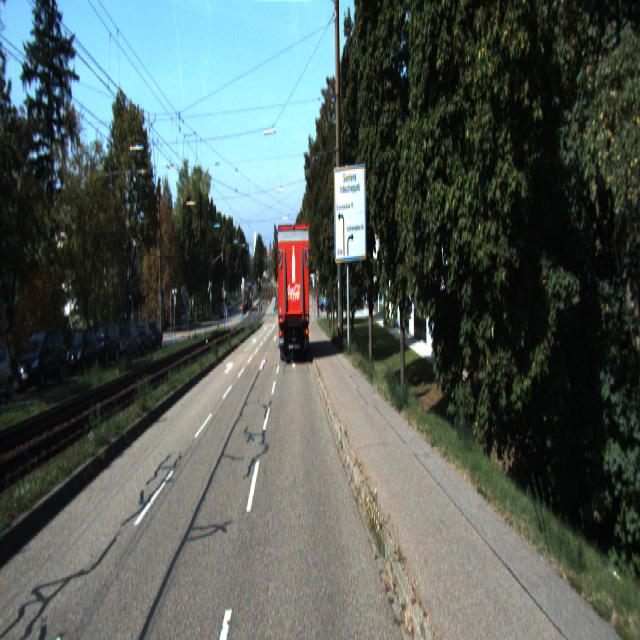Car: (276, 223, 312, 366), (16, 328, 67, 392), (65, 328, 100, 376), (89, 322, 120, 366), (115, 319, 139, 360), (0, 338, 15, 402)
